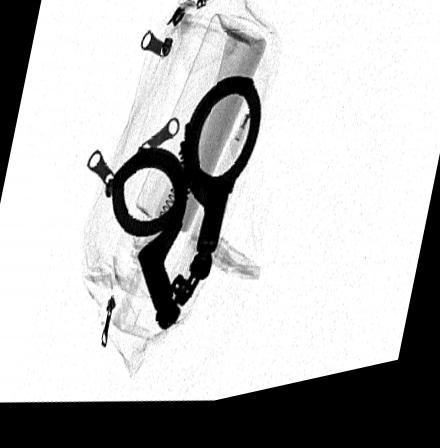HandCuffs: (111, 84, 262, 337)
